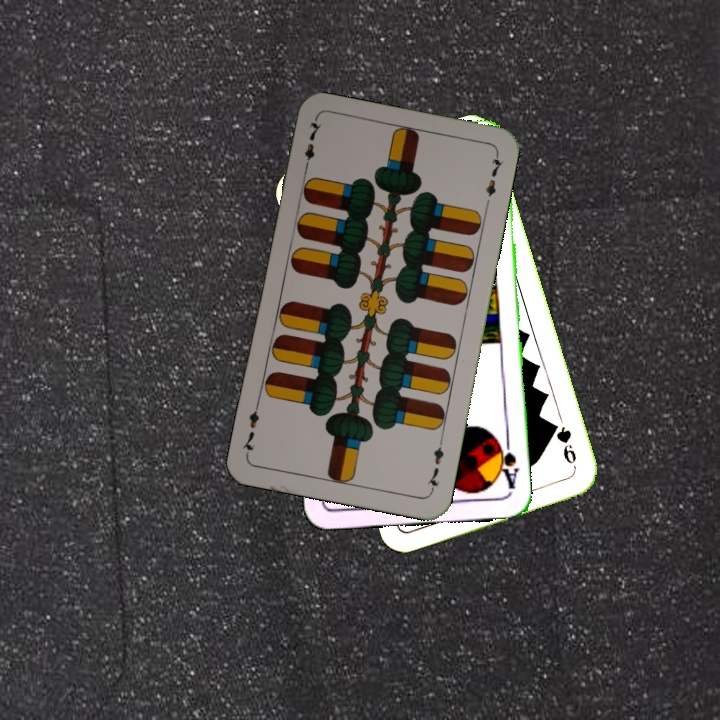E7: (423, 436, 447, 495), (300, 116, 324, 175)
G9: (548, 418, 580, 474)
SA: (493, 434, 522, 492)
